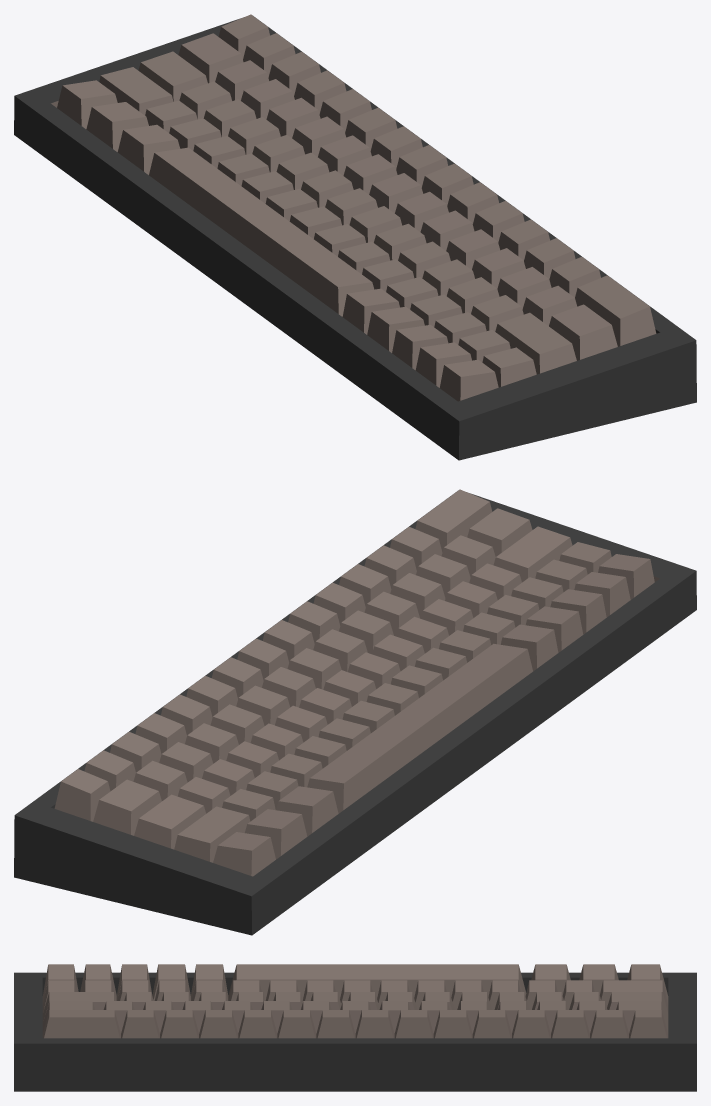
File: keeb.fbx
The picture shows the model from 3 angles, top to bottom: view 1: azimuth 30°, elevation 25°; view 2: azimuth 150°, elevation 25°; view 3: azimuth 270°, elevation 25°; orthographic projection. The views are drawn at different scales.
Parts seen in each view (by area): view 1: keeb_export; view 2: keeb_export; view 3: keeb_export.
Boxes of the visible parts, bbox=[...] form: keeb_export: bbox=[14, 14, 696, 460]; keeb_export: bbox=[14, 489, 696, 935]; keeb_export: bbox=[14, 964, 696, 1091].
Size of the model in its own units: 26.69 by 9.11 by 86.38.
